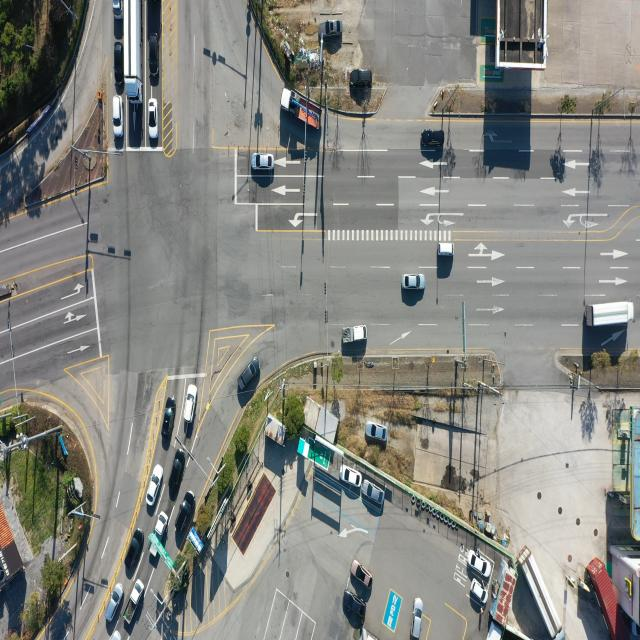car: (174, 493, 197, 540), (236, 357, 261, 396), (169, 448, 186, 498), (146, 464, 163, 507), (106, 583, 124, 623), (344, 590, 365, 624), (126, 529, 144, 568), (470, 551, 492, 579), (351, 561, 373, 589), (163, 403, 176, 450), (362, 482, 384, 506), (150, 34, 160, 86), (341, 464, 363, 487), (412, 599, 424, 640), (113, 40, 123, 86), (184, 385, 196, 423), (472, 580, 489, 606), (364, 422, 387, 441), (422, 130, 446, 148), (251, 152, 274, 170), (148, 98, 158, 138), (113, 96, 123, 136), (404, 274, 427, 291), (352, 68, 373, 86), (322, 20, 342, 37), (438, 242, 454, 257)
medium_truck: (522, 548, 564, 638), (281, 86, 322, 132), (127, 0, 143, 96), (593, 299, 637, 327)
small_truck: (148, 512, 170, 565), (124, 577, 145, 622), (342, 326, 367, 345), (113, 0, 123, 21)
